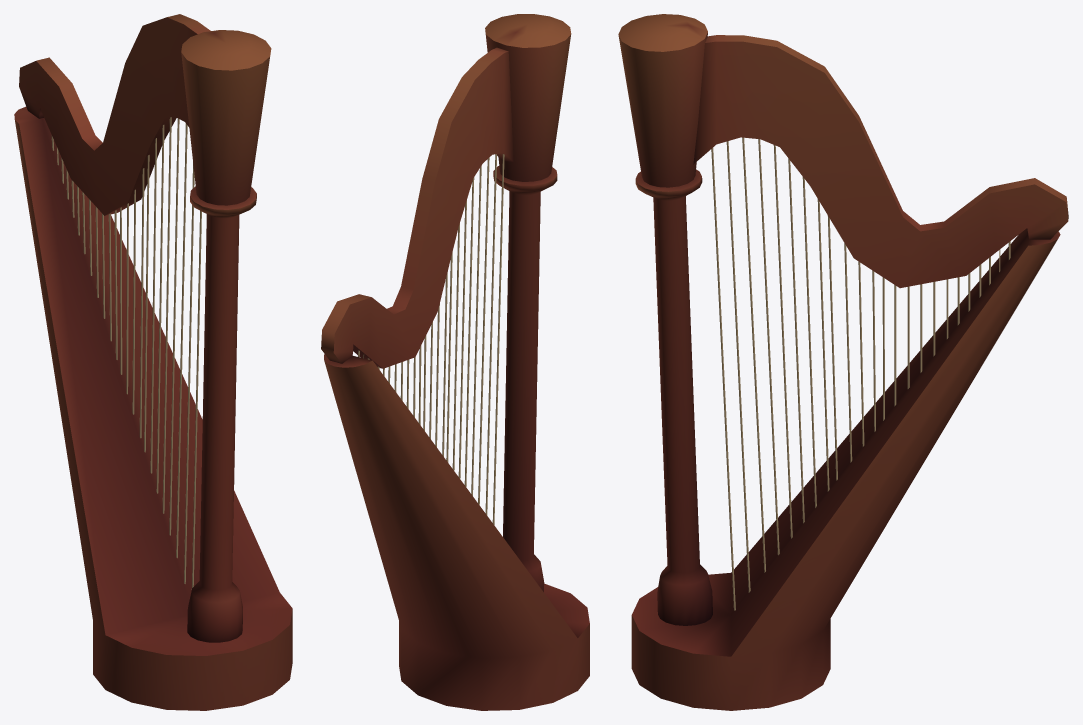
Rendered from human-music-harp_v1.fbx.
The picture shows the model from 3 angles, left to right: view 1: azimuth 30°, elevation 25°; view 2: azimuth 150°, elevation 25°; view 3: azimuth 270°, elevation 25°; orthographic projection. The views are drawn at different scales.
Parts seen in each view (by area): view 1: Harp; view 2: Harp; view 3: Harp.
Boxes of the visible parts, x1=… form: Harp: x1=14, y1=14, x2=292, y2=710; Harp: x1=321, y1=14, x2=589, y2=710; Harp: x1=618, y1=14, x2=1068, y2=710.
Bounding box in the file's own units: 0.4763 × 1.7 × 1.08.
